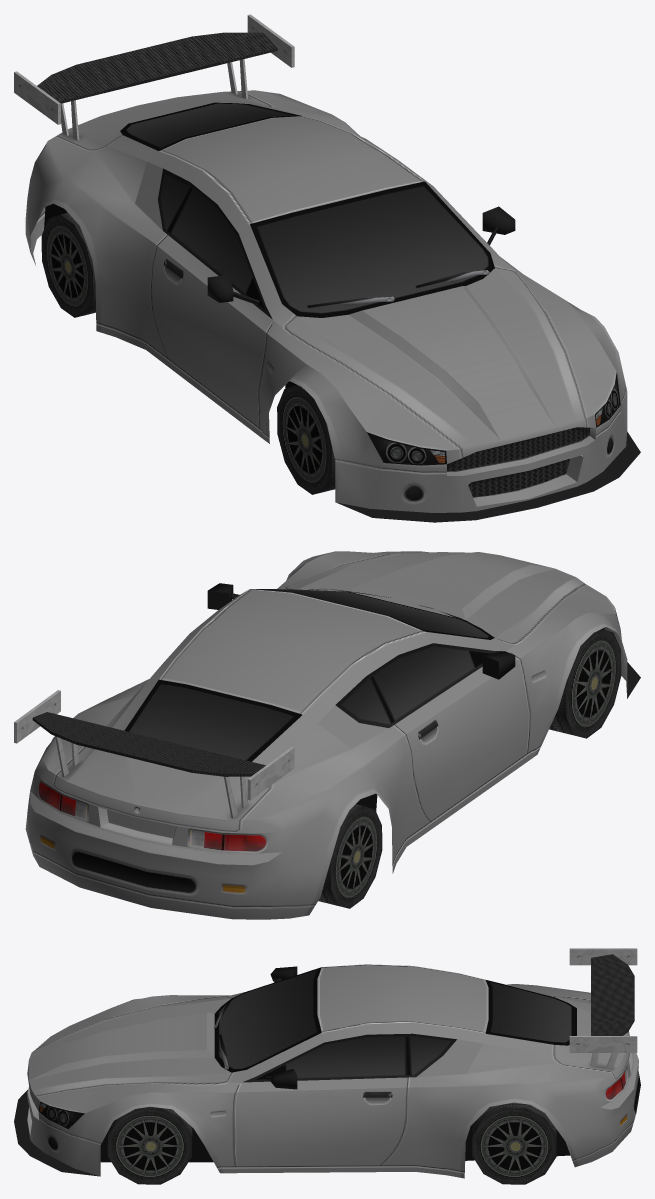
File: Modern_HighPowered_Car_LOD1.fbx
3 views of the same model, one above another, from view 1: azimuth 30°, elevation 25°; view 2: azimuth 150°, elevation 25°; view 3: azimuth 270°, elevation 25° (orthographic). The views are drawn at different scales.
Visible parts, largest first — view 1: Chassis, RF_Wheel, RR_Wheel; view 2: Chassis, RF_Wheel, RR_Wheel; view 3: Chassis, LR_Wheel, LF_Wheel.
Boxes of the visible parts, x1,y1,x2,y2 form: Chassis: (14,14,640,522); RF_Wheel: (277,385,335,494); RR_Wheel: (41,212,95,317); Chassis: (14,551,640,919); RF_Wheel: (549,629,621,738); RR_Wheel: (318,804,382,908); Chassis: (14,948,640,1178); LR_Wheel: (472,1102,556,1184); LF_Wheel: (107,1106,192,1184).
Bounding box in the file's own units: 2.39 × 1.4 × 5.69.
Materials: 2 (2 with a texture image).
